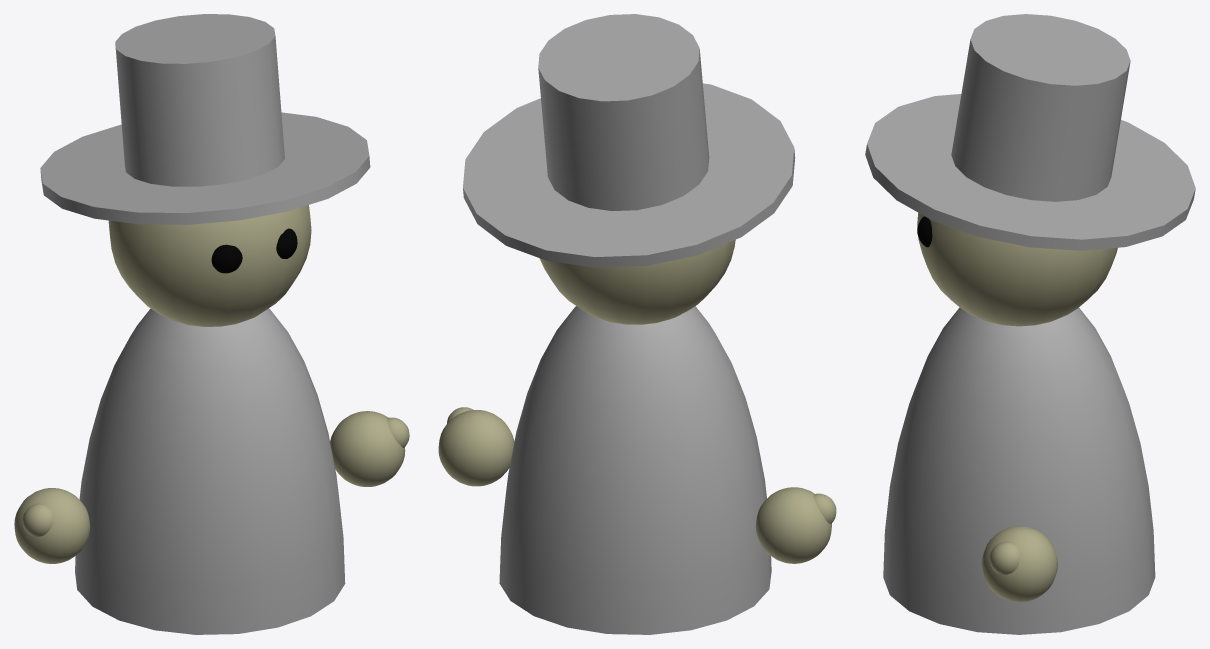
Rendered from PersonPawn_01.fbx.
3 views of the same model, side by side, from view 1: azimuth 30°, elevation 25°; view 2: azimuth 150°, elevation 25°; view 3: azimuth 270°, elevation 25° (orthographic).
Visible parts, largest first — view 1: group5; view 2: group5; view 3: group5.
Boxes of the visible parts, left/top/right/bottom form: group5: left=14, top=14, right=409, bottom=634; group5: left=438, top=14, right=836, bottom=634; group5: left=865, top=14, right=1195, bottom=634.
Size of the model in its own units: 118 by 88.18 by 159.
